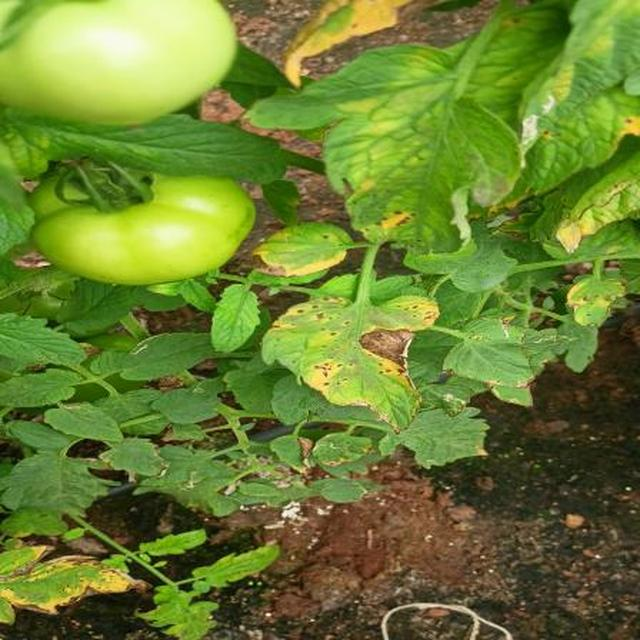Early Blight Leaf: (179, 89, 498, 520)
